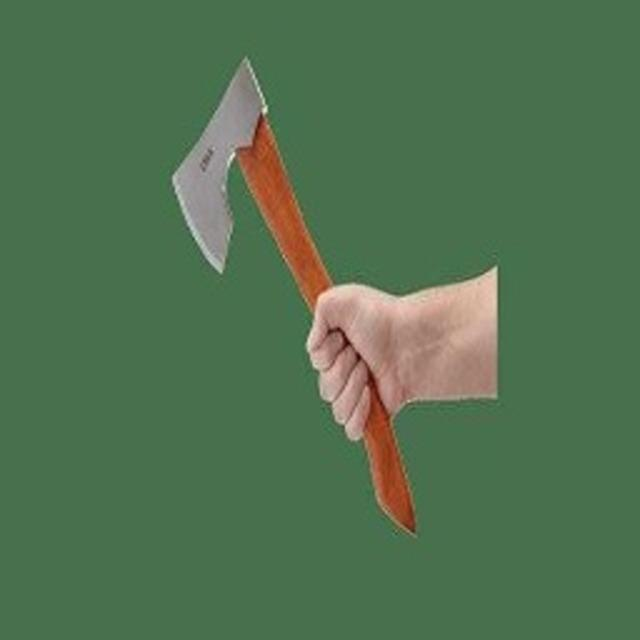ax: (158, 38, 438, 550)
